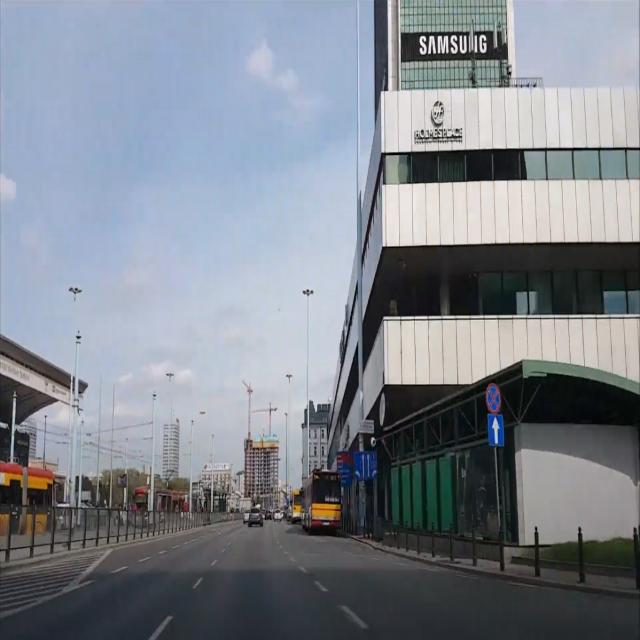Zakaz zatrzymywania sie: (486, 380, 502, 415)
